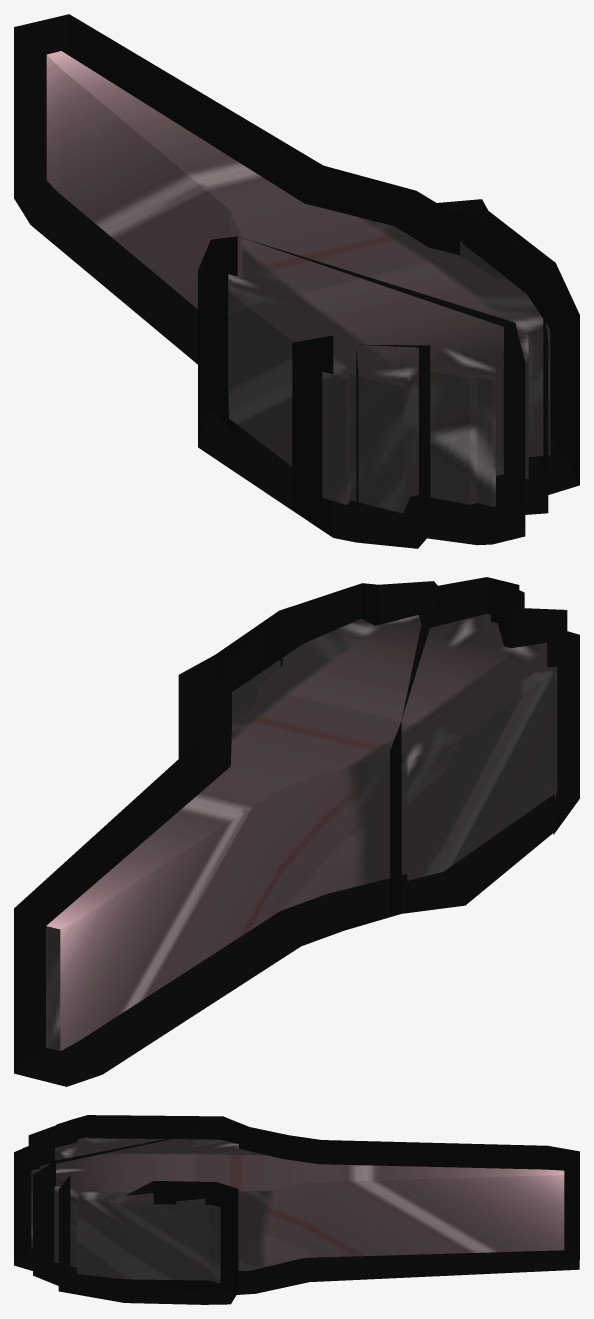
Rendered from Building_TwistedArchotechSupport_Vertical_Things_Building_TwistedArchotechSupport_TwistedArchotechSupport_vertical.glb.
3 renders of one model, top to bottom at view 1: azimuth 30°, elevation 25°; view 2: azimuth 150°, elevation 25°; view 3: azimuth 270°, elevation 25°, orthographic. The views are drawn at different scales.
Visible parts, largest first — view 1: Body, Outline; view 2: Body, Outline; view 3: Body, Outline.
Boxes of the visible parts, x1,y1,x2,y2 form: Body: (46, 51, 550, 513); Outline: (14, 14, 579, 548); Body: (46, 613, 557, 1050); Outline: (14, 577, 579, 1086); Body: (31, 1137, 564, 1283); Outline: (14, 1115, 579, 1304).
Size of the model in its own units: 0.6142 by 0.4093 by 1.73.
2 materials, 1 textured.
